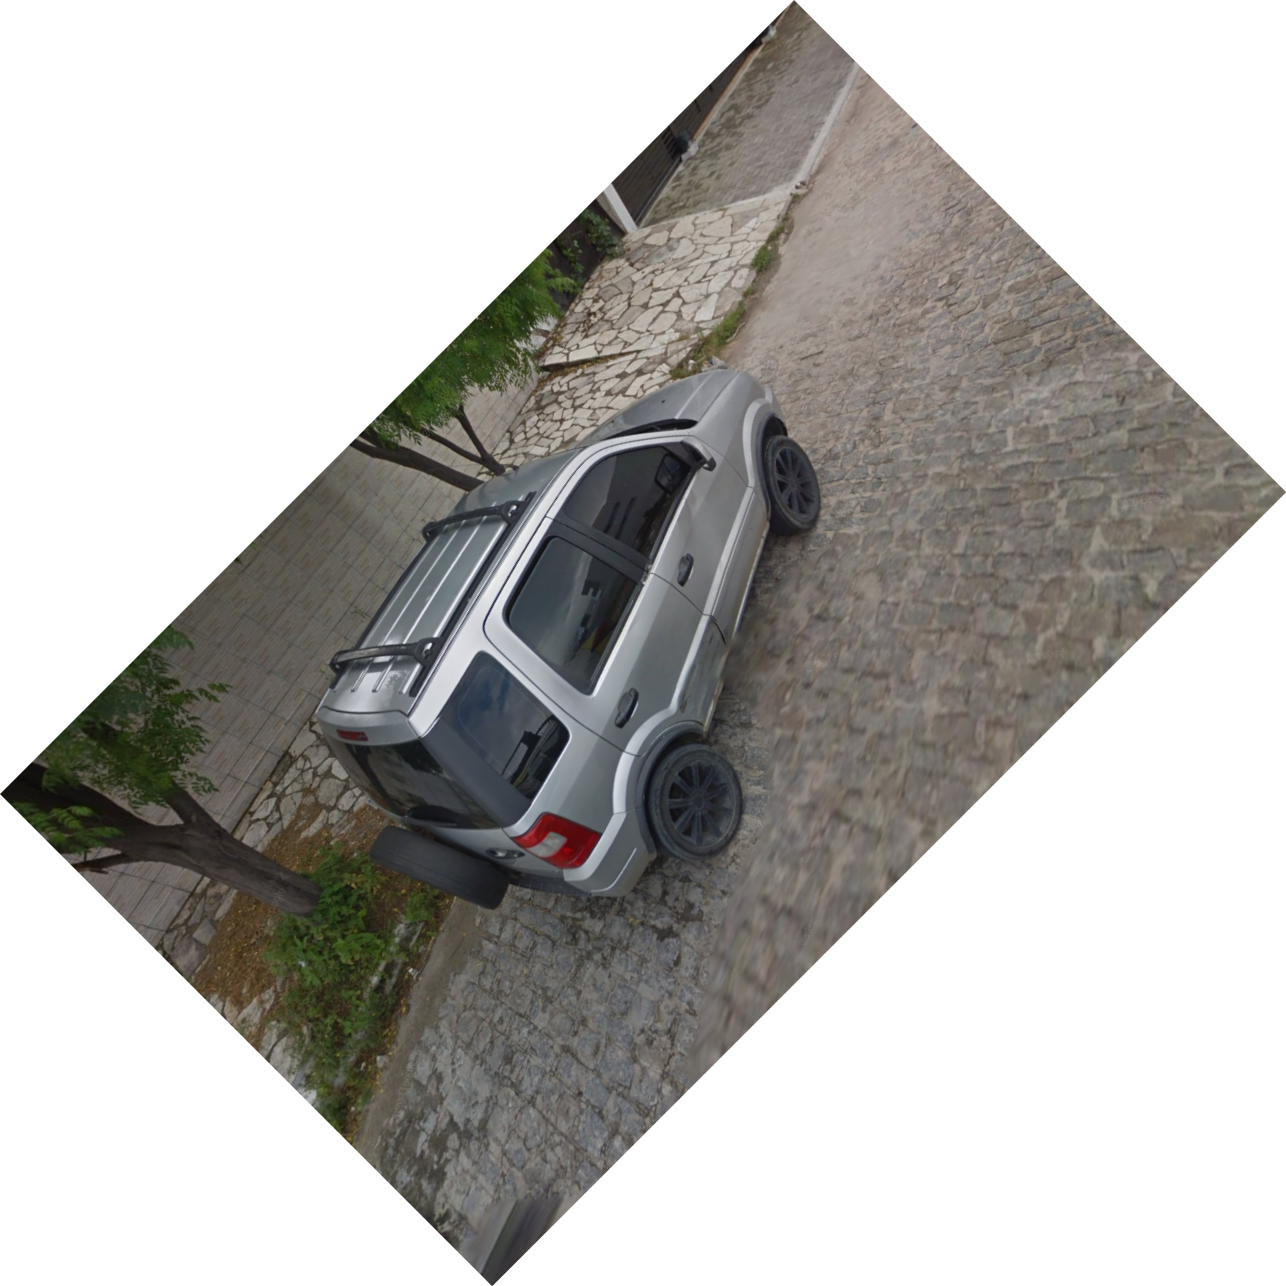car: (311, 366, 827, 919)
